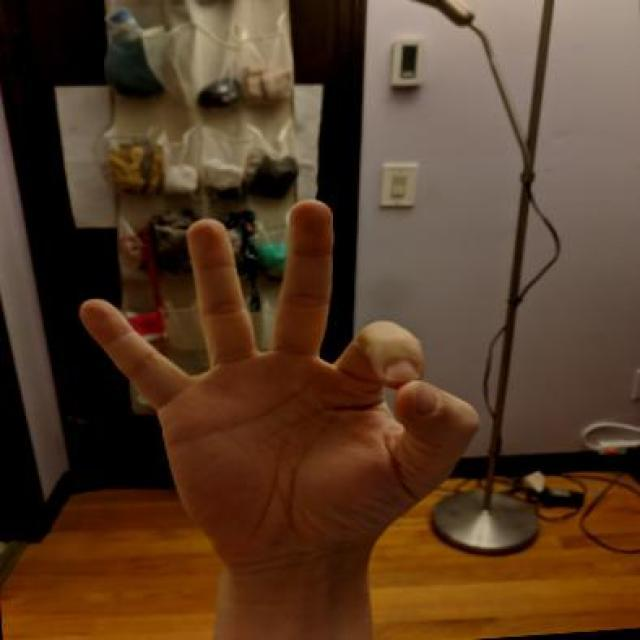F: (69, 197, 505, 580)
